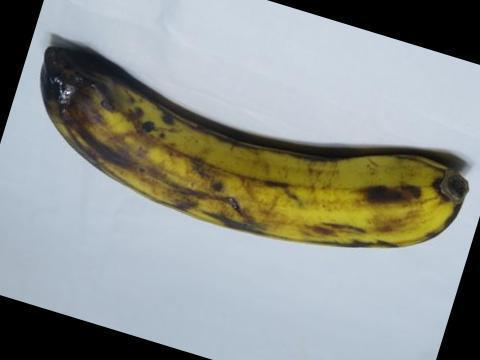overripe: (22, 36, 479, 268)
